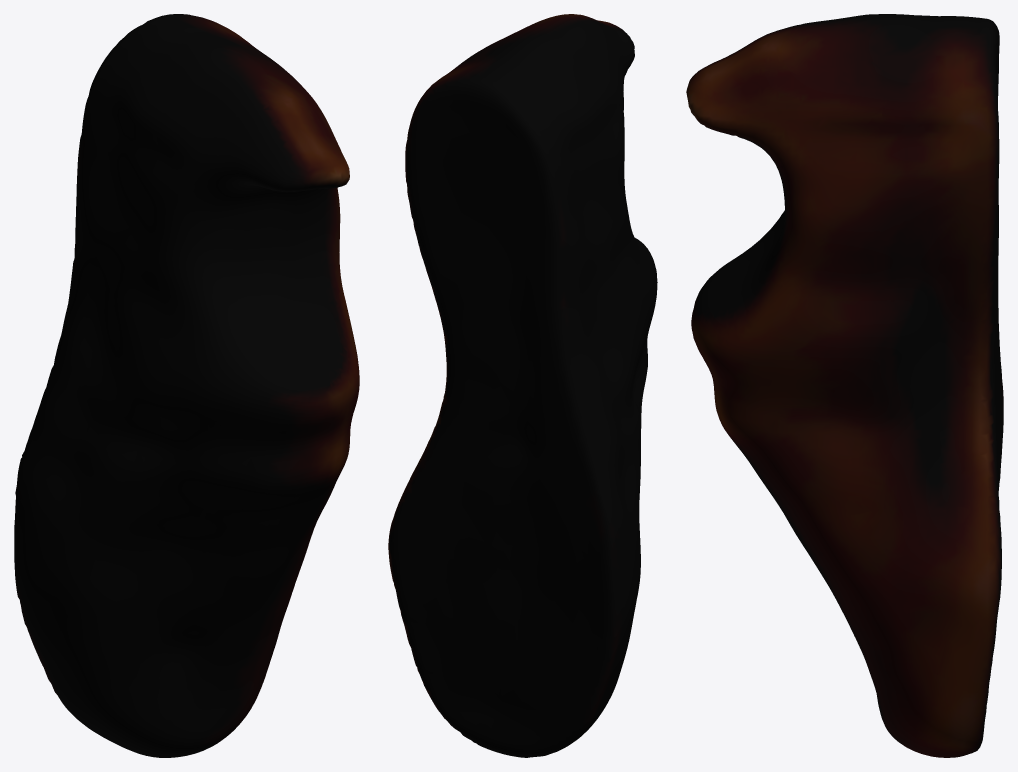
File: shoe3.glb
3 views of the same model, side by side, from view 1: azimuth 30°, elevation 25°; view 2: azimuth 150°, elevation 25°; view 3: azimuth 270°, elevation 25° (orthographic). The views are drawn at different scales.
Size of the model in its own units: 0.3574 by 0.9997 by 0.3908.
